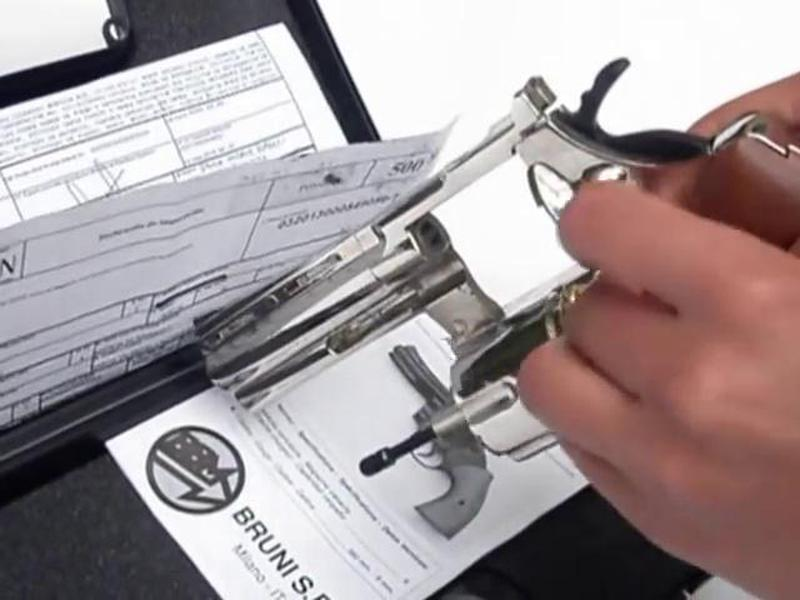Revolver: (182, 106, 800, 411)
